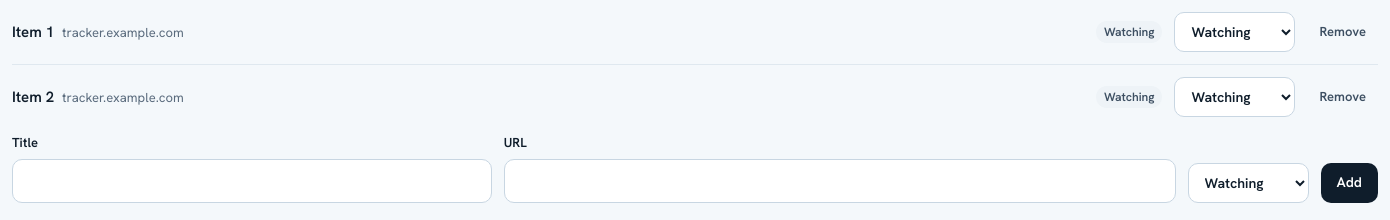
it: RoadmapLinks › treats a 404 on remove as already gone: no error, re-synced
Click the button with aria-label "Remove Item 1": (1343, 32) [1308,16,1378,48]
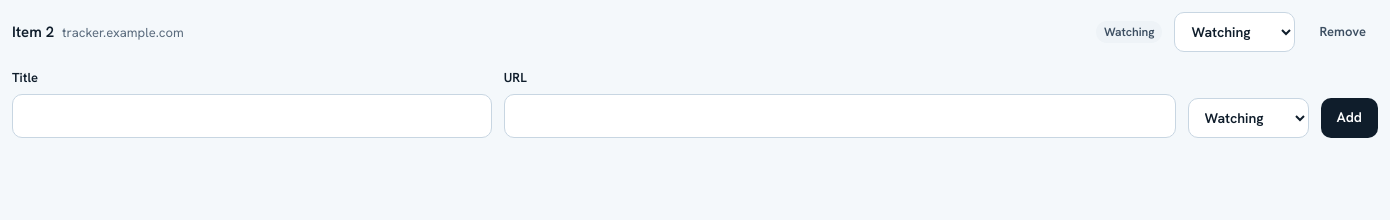
Check: the link "Item 1" is gone
Check: the number of list items is 1, box [12,12,1378,52]
